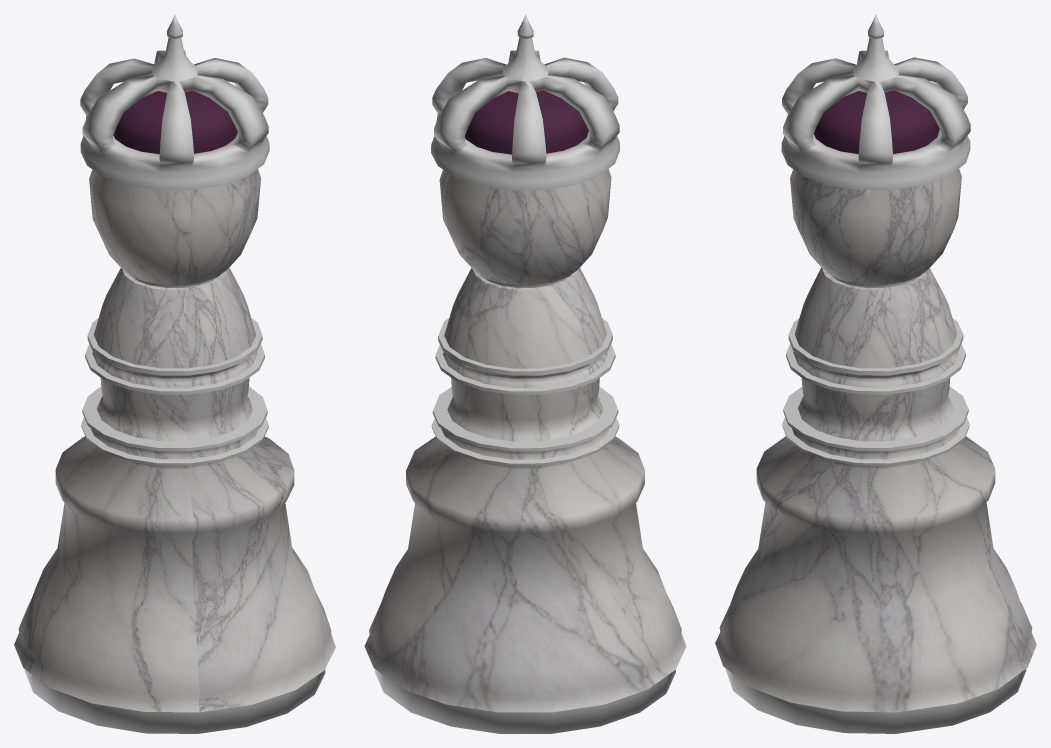
The model's file is krolowka.obj.
3 renders of one model, left to right at view 1: azimuth 30°, elevation 25°; view 2: azimuth 150°, elevation 25°; view 3: azimuth 270°, elevation 25°, orthographic.
Parts seen in each view (by area): view 1: biala_czana; view 2: biala_czana; view 3: biala_czana.
Boxes of the visible parts, x1,y1,x2,y2 form: biala_czana: (14,14,335,733); biala_czana: (364,14,686,733); biala_czana: (715,14,1036,733).
Size of the model in its own units: 1.63 by 3.72 by 1.65.
3 materials, 2 textured.
